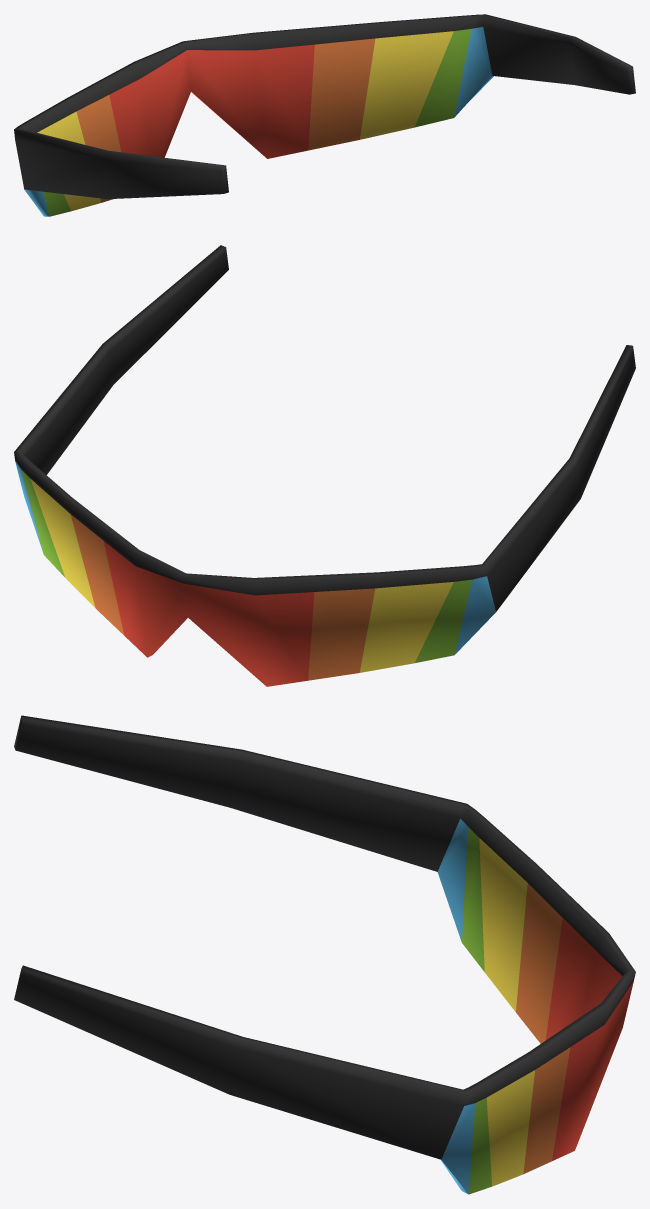
Rendered from glasses_item.gltf.
3 views of the same model, one above another, from view 1: azimuth 30°, elevation 25°; view 2: azimuth 150°, elevation 25°; view 3: azimuth 270°, elevation 25° (orthographic). The views are drawn at different scales.
Visible parts, largest first — view 1: WIKKED; view 2: WIKKED; view 3: WIKKED.
Boxes of the visible parts, box(x1,y1,x2,y2) form: WIKKED: box(14, 14, 635, 216); WIKKED: box(14, 245, 635, 686); WIKKED: box(14, 715, 635, 1194).
Bounding box in the file's own units: 0.2052 × 0.0895 × 0.1855.
